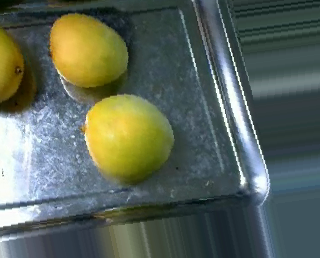Mango: (87, 95, 175, 180), (50, 15, 131, 87), (0, 30, 23, 103)
